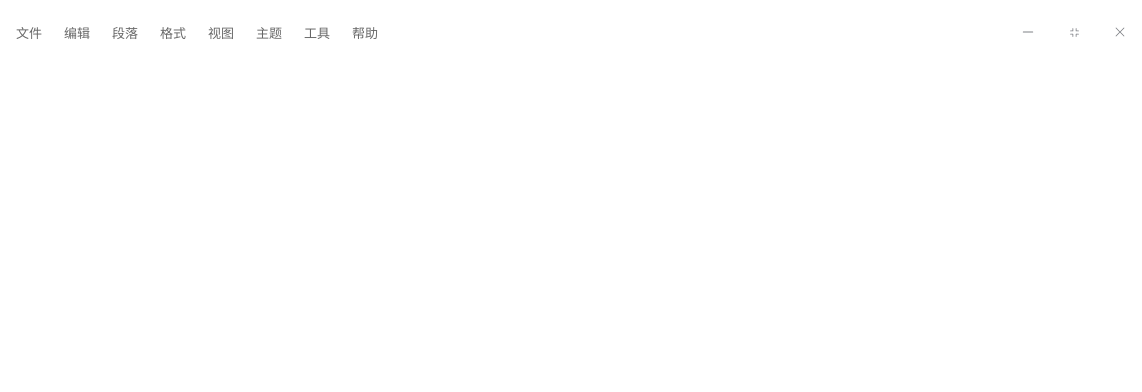
Test: AppTitleBar › derives the fullscreen menu label from the current WindowState
Click the button "视图" at [221, 32], box [197,19,245,45]
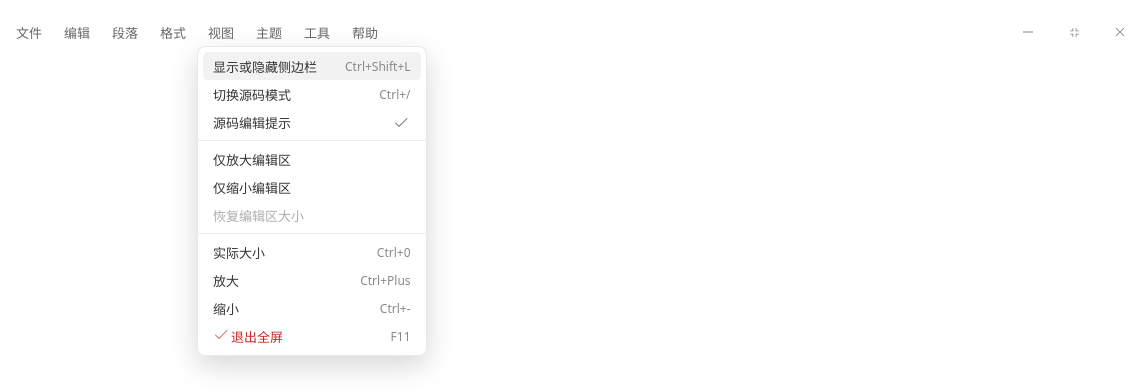
Now the menu item "退出全屏 F11" is shown, box [203,322,421,350]
